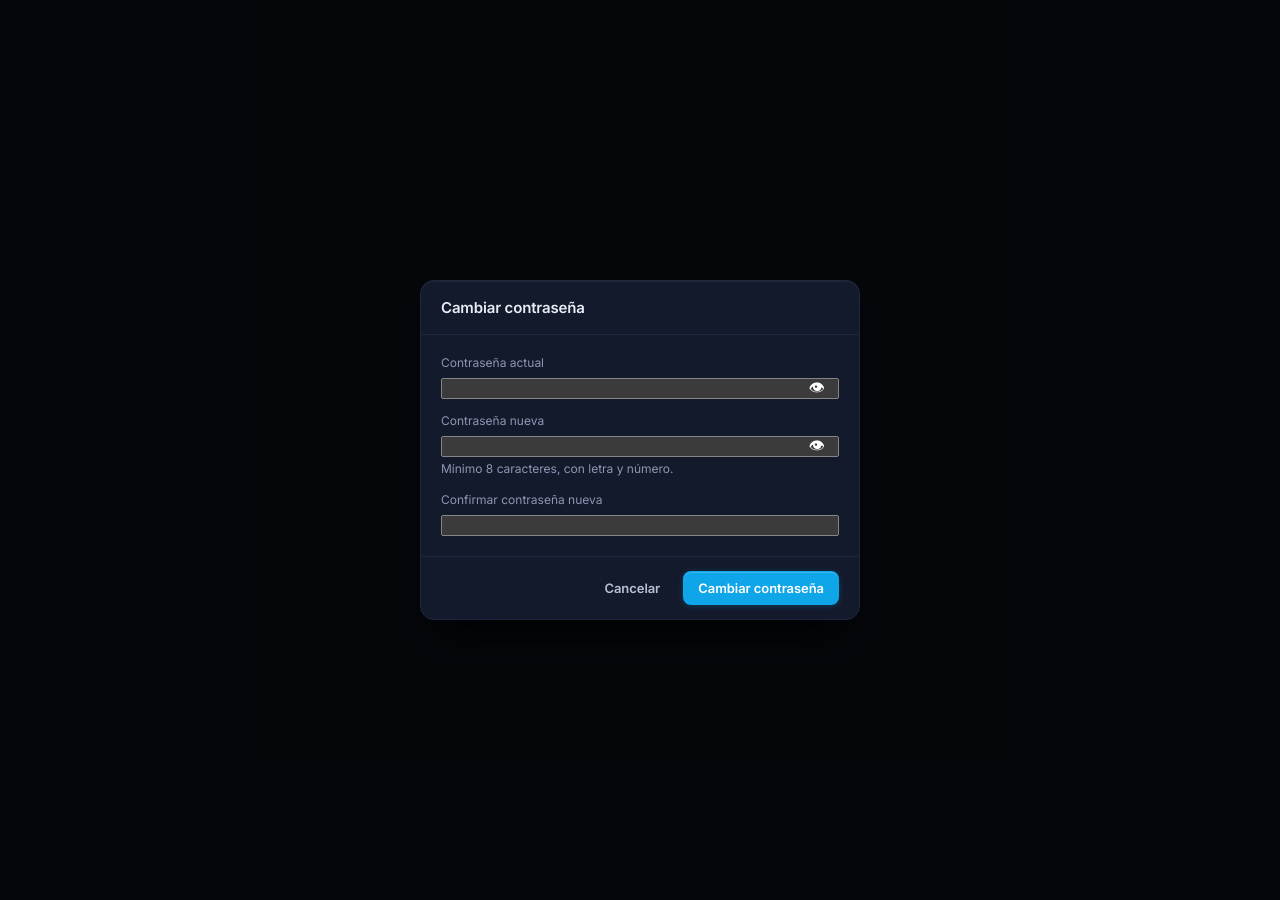
Test: ChangePasswordModal › valida cliente: nueva sin número → error
Step 1. Type "old-pass-123" into the password field labelled "Contraseña actual" → (640, 389), box x1=441 y1=378 x2=839 y2=399
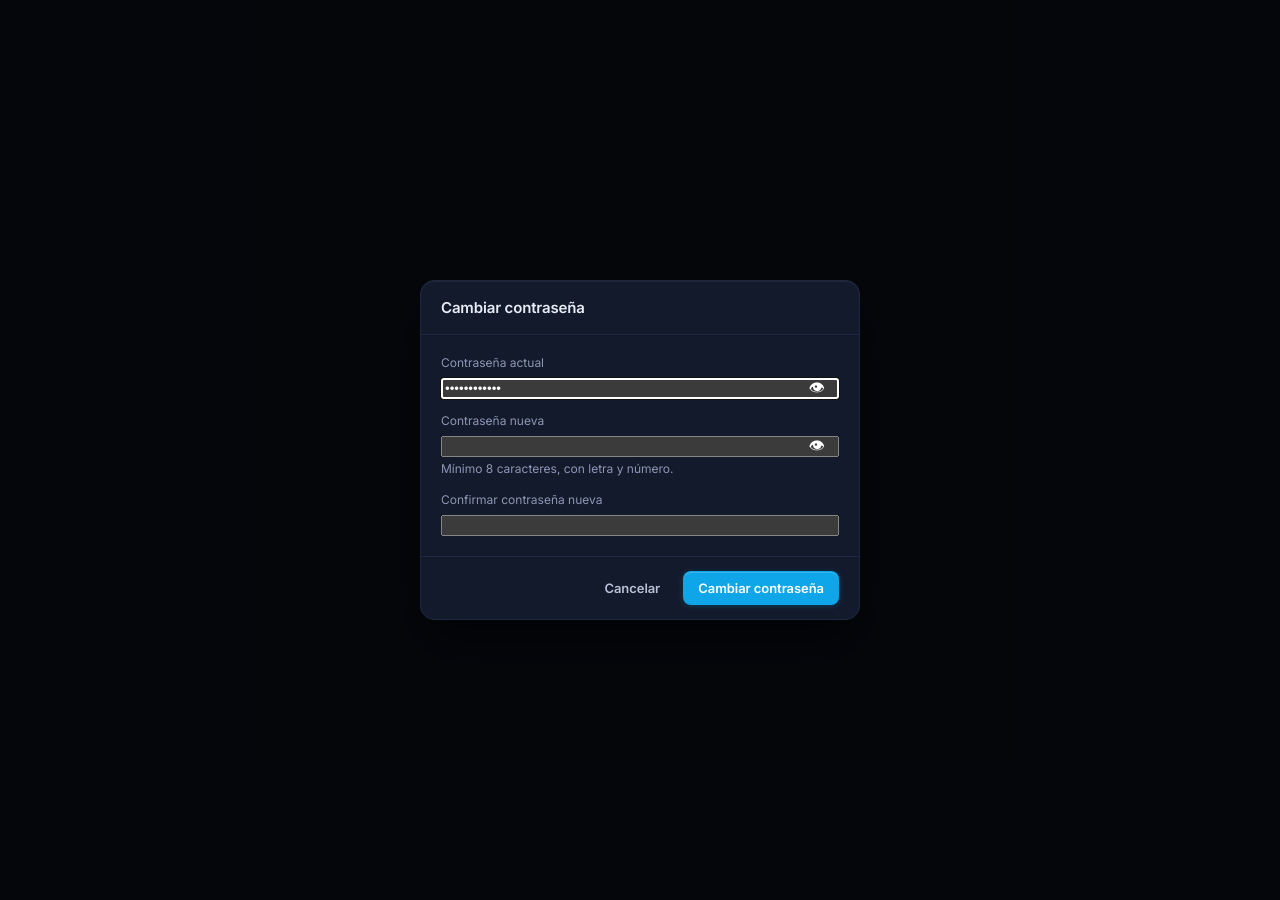
Step 2. Type "abcdefghi" into the password field labelled "Contraseña nueva" → (640, 446), box x1=441 y1=436 x2=839 y2=457
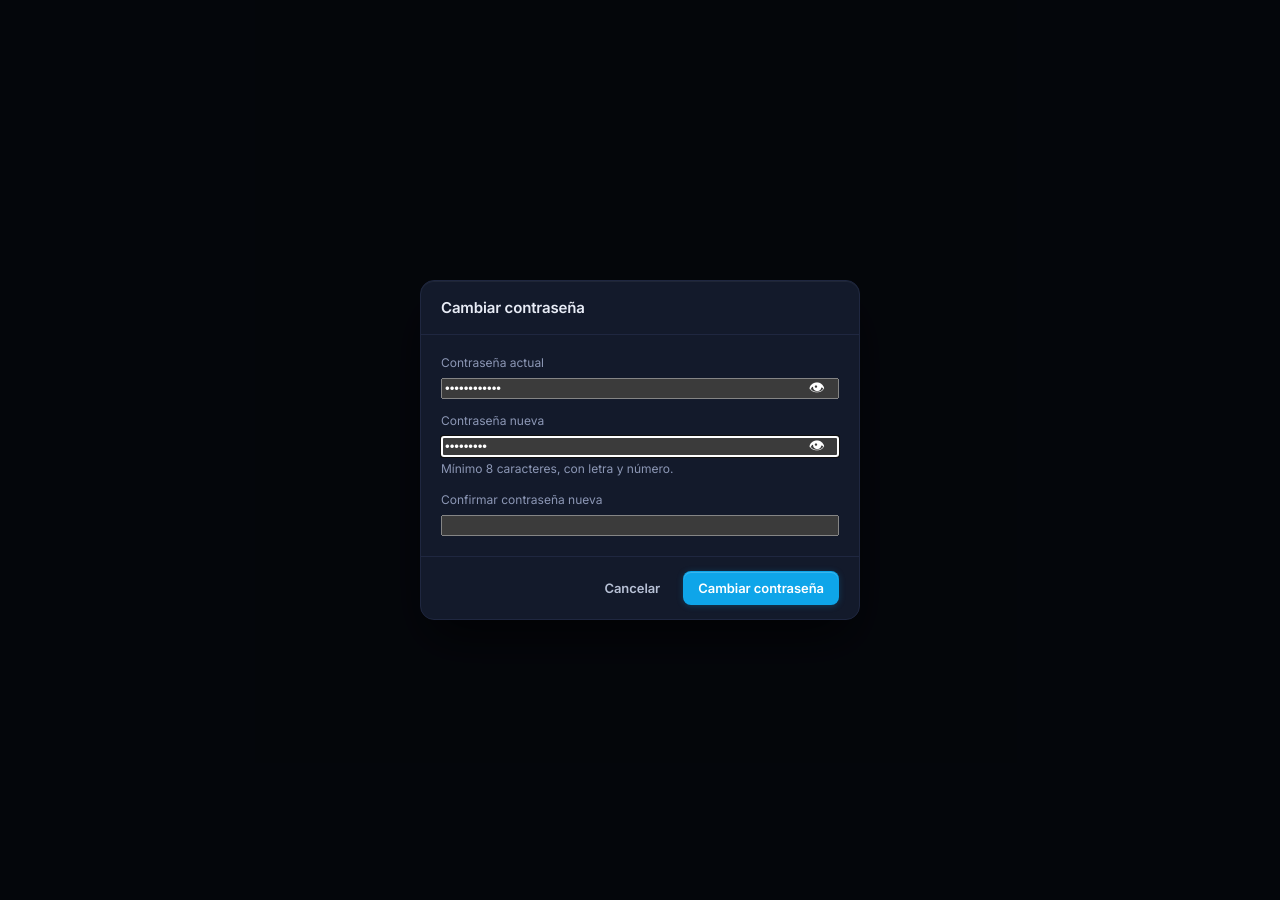
Step 3. Type "abcdefghi" into the password field labelled "Confirmar contraseña nueva" → (640, 525), box x1=441 y1=515 x2=839 y2=536
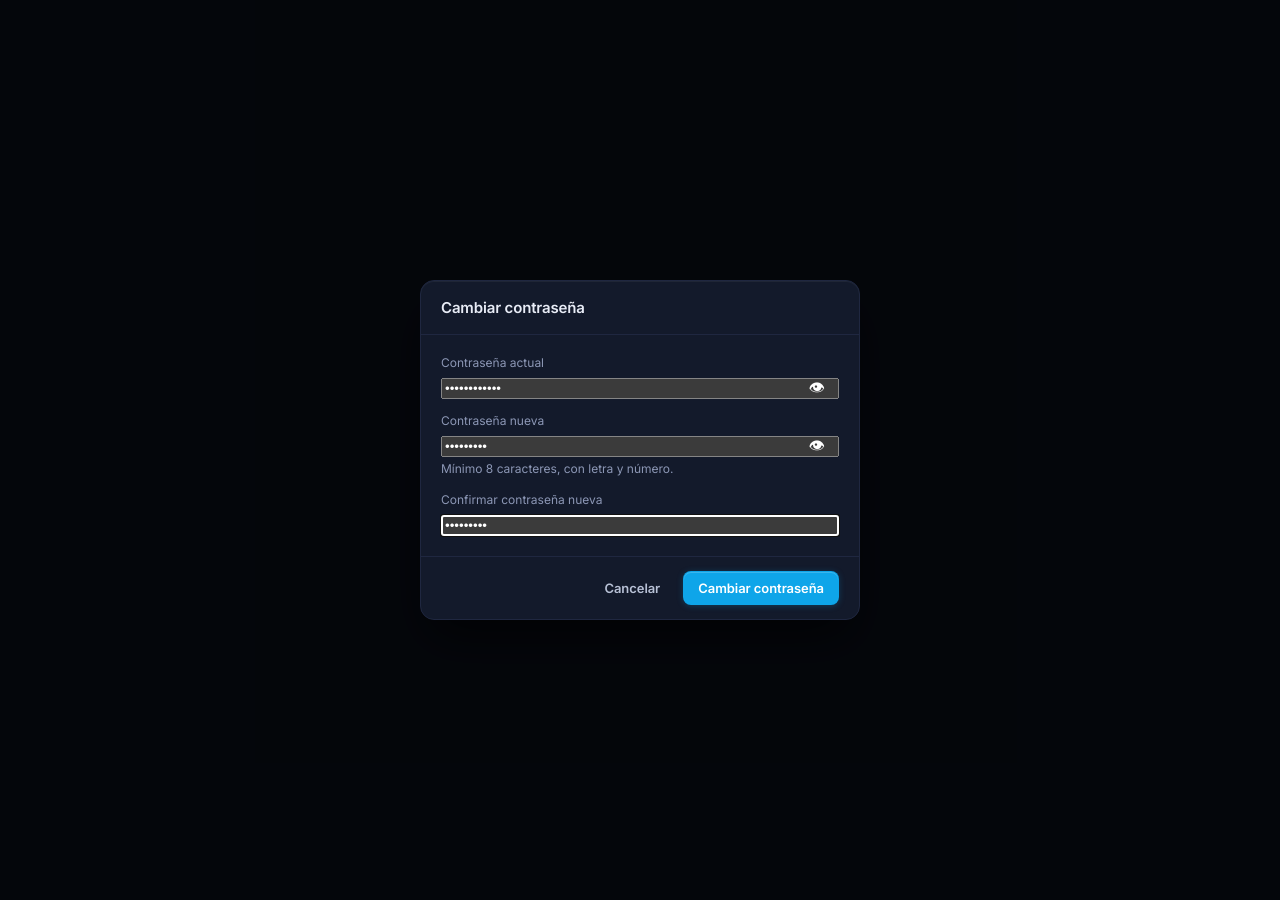
Step 4. Click the button "Cambiar contraseña" → (761, 588), box x1=683 y1=571 x2=839 y2=605
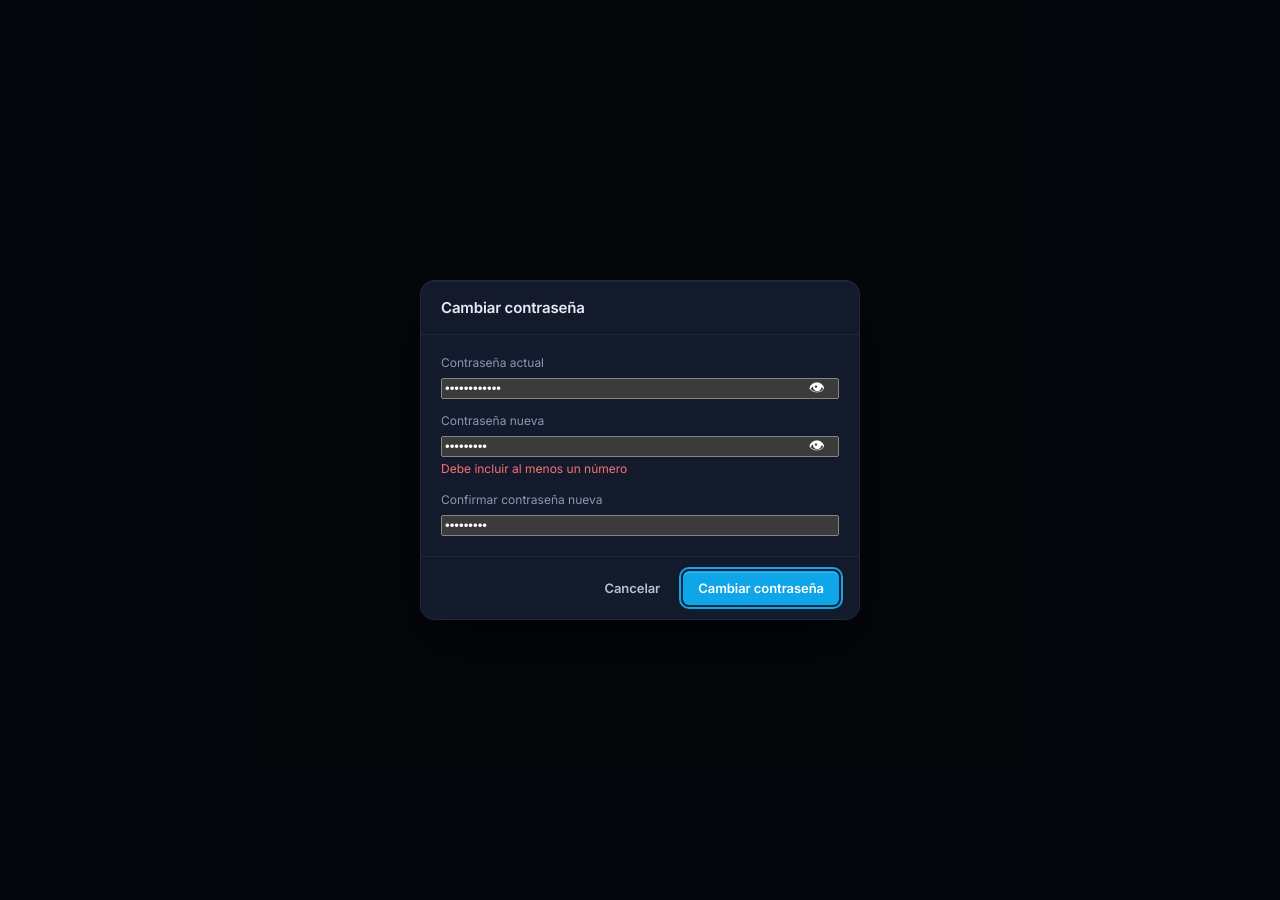
Expected: the text "Debe incluir al menos un número" is shown, x1=441 y1=461 x2=627 y2=476
